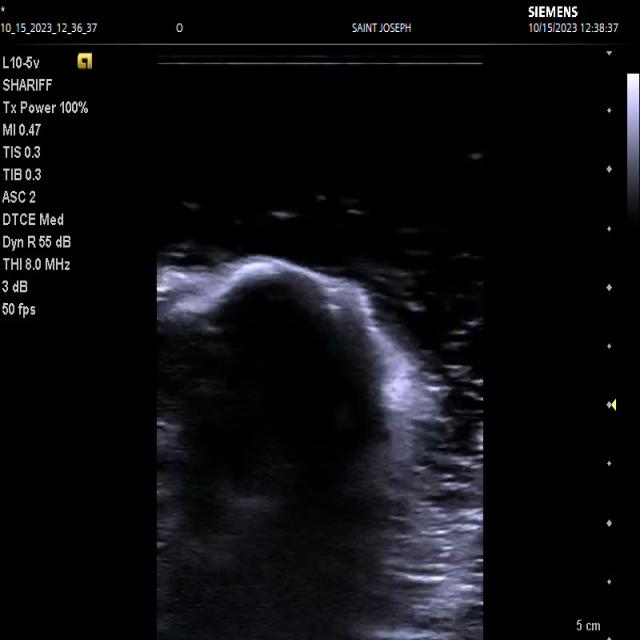tissue: (158, 257, 412, 640)
